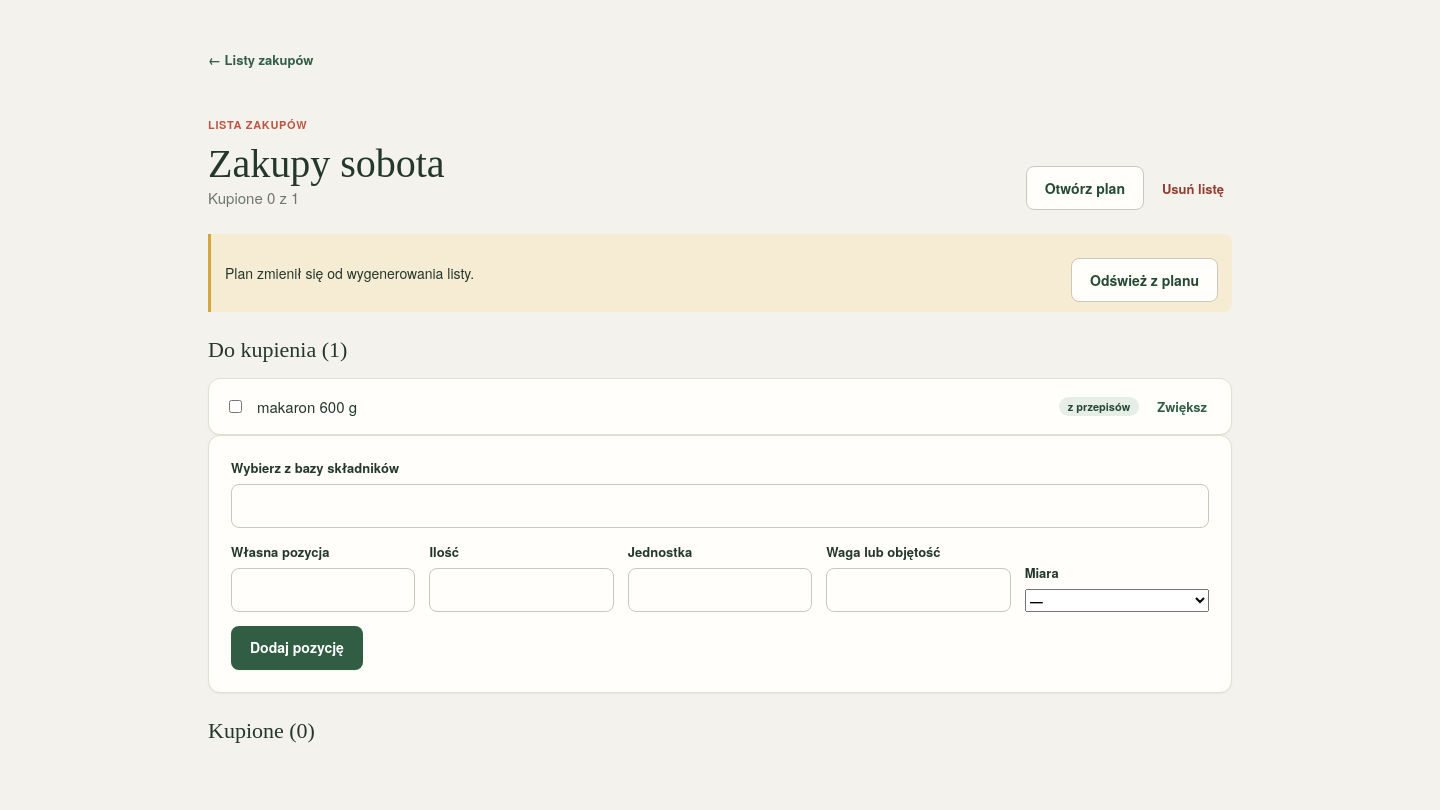
it: shopping list view › previews the changes and refreshes only after confirmation
Click the button "Odśwież z planu" at (1145, 280), box [1071, 258, 1218, 302]
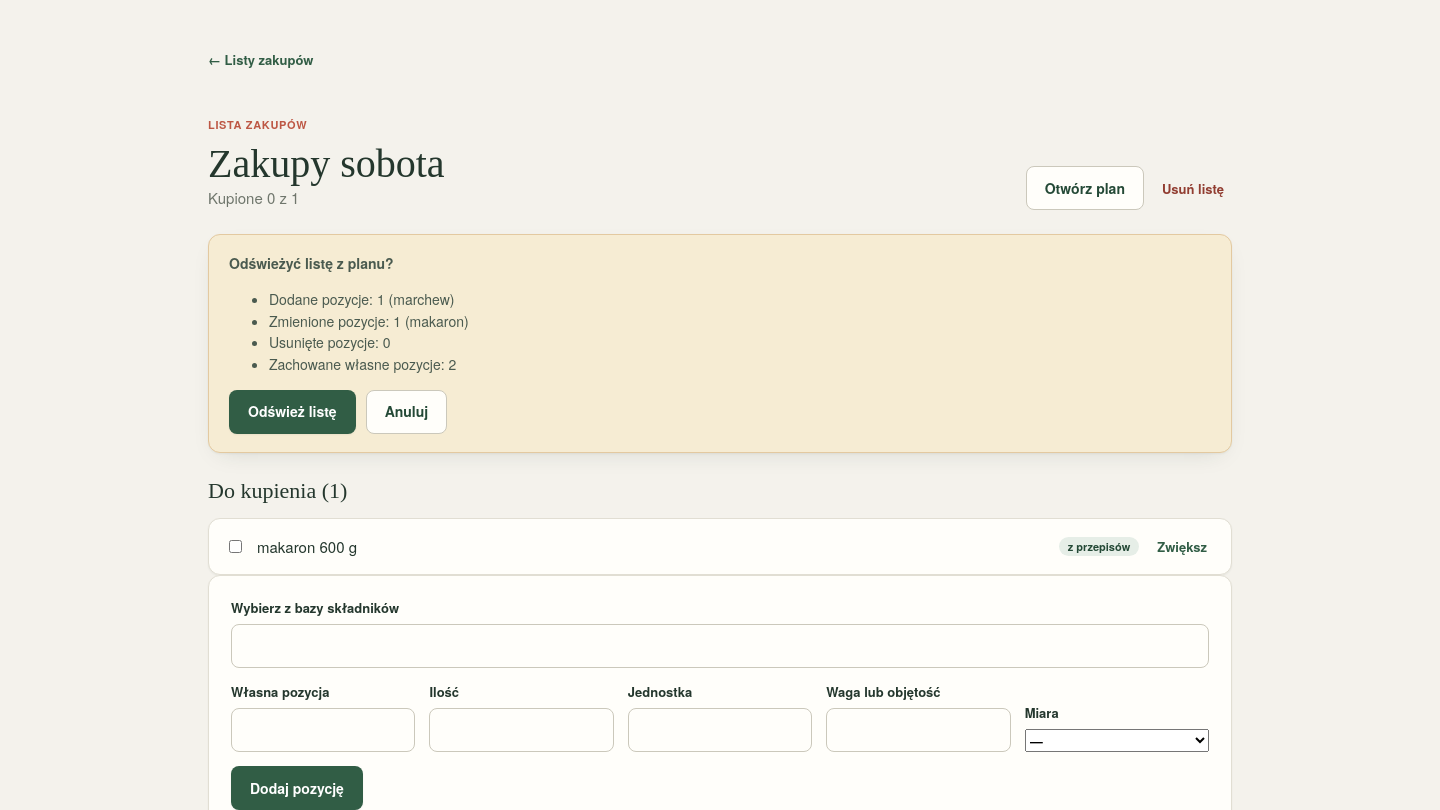
Expected: the list item "Dodane pozycje: 1 (marchew)" is shown, [269, 289, 454, 309]
Expected: the list item "Zachowane własne pozycje: 2" is shown, [269, 354, 456, 374]
Click the button "Odśwież listę" at (292, 412), box [229, 390, 356, 434]
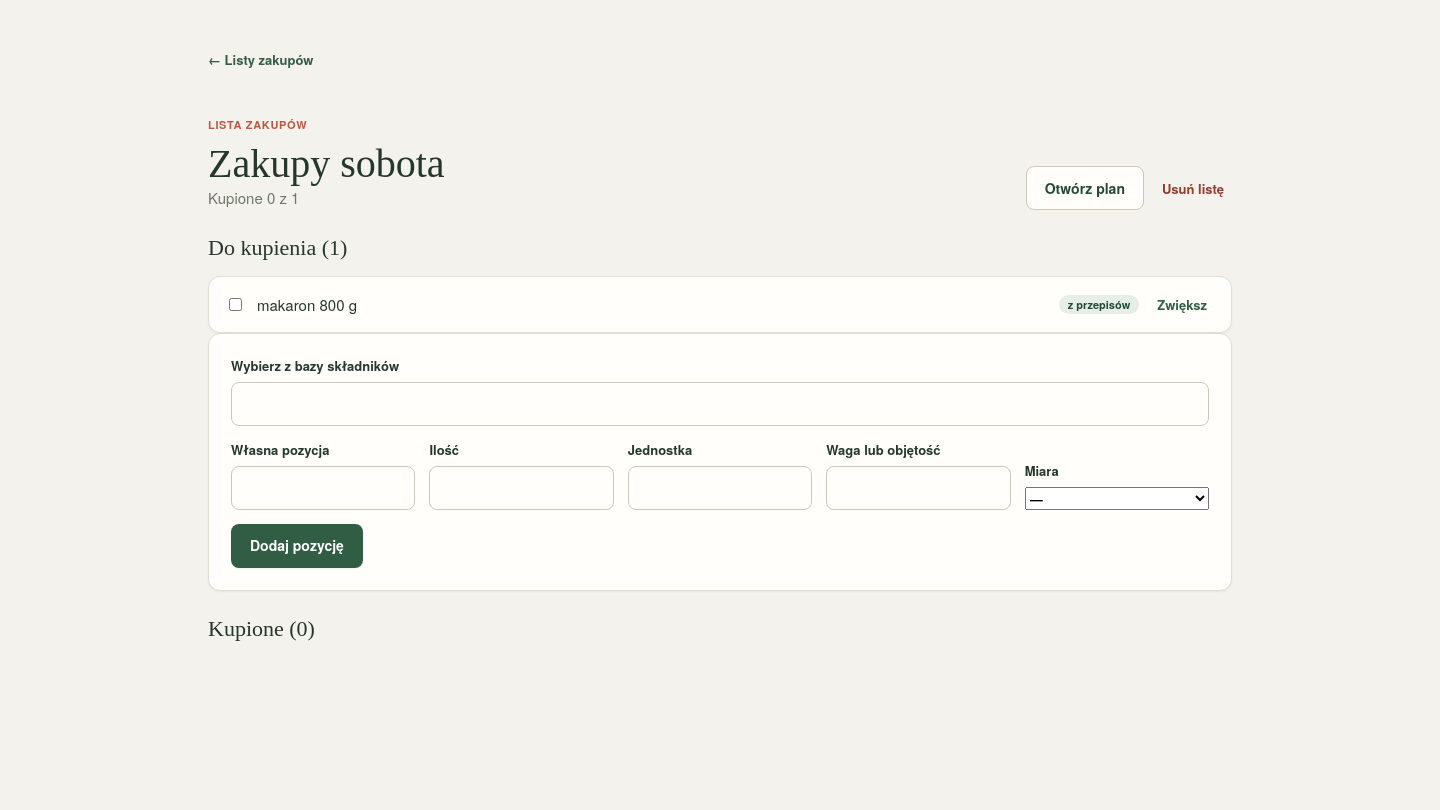
Expected: the text "Plan zmienił się od wygenerowania listy." is not shown
Expected: the text "makaron 800 g" is shown, [257, 294, 357, 315]
